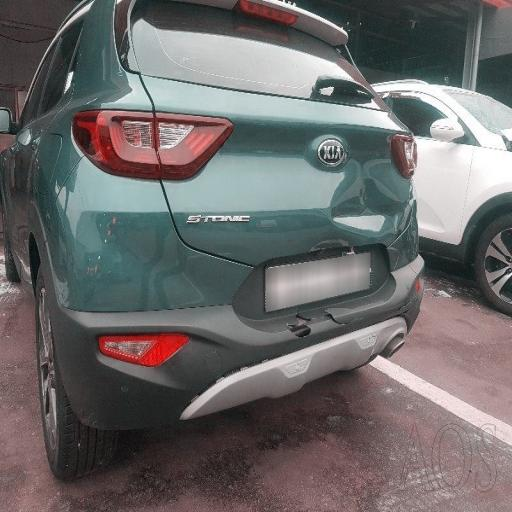broken: (134, 147, 433, 360)
